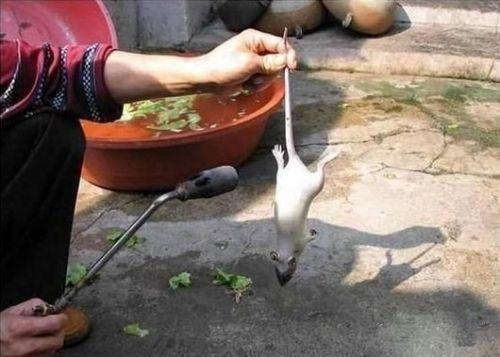rat: (263, 122, 329, 276)
